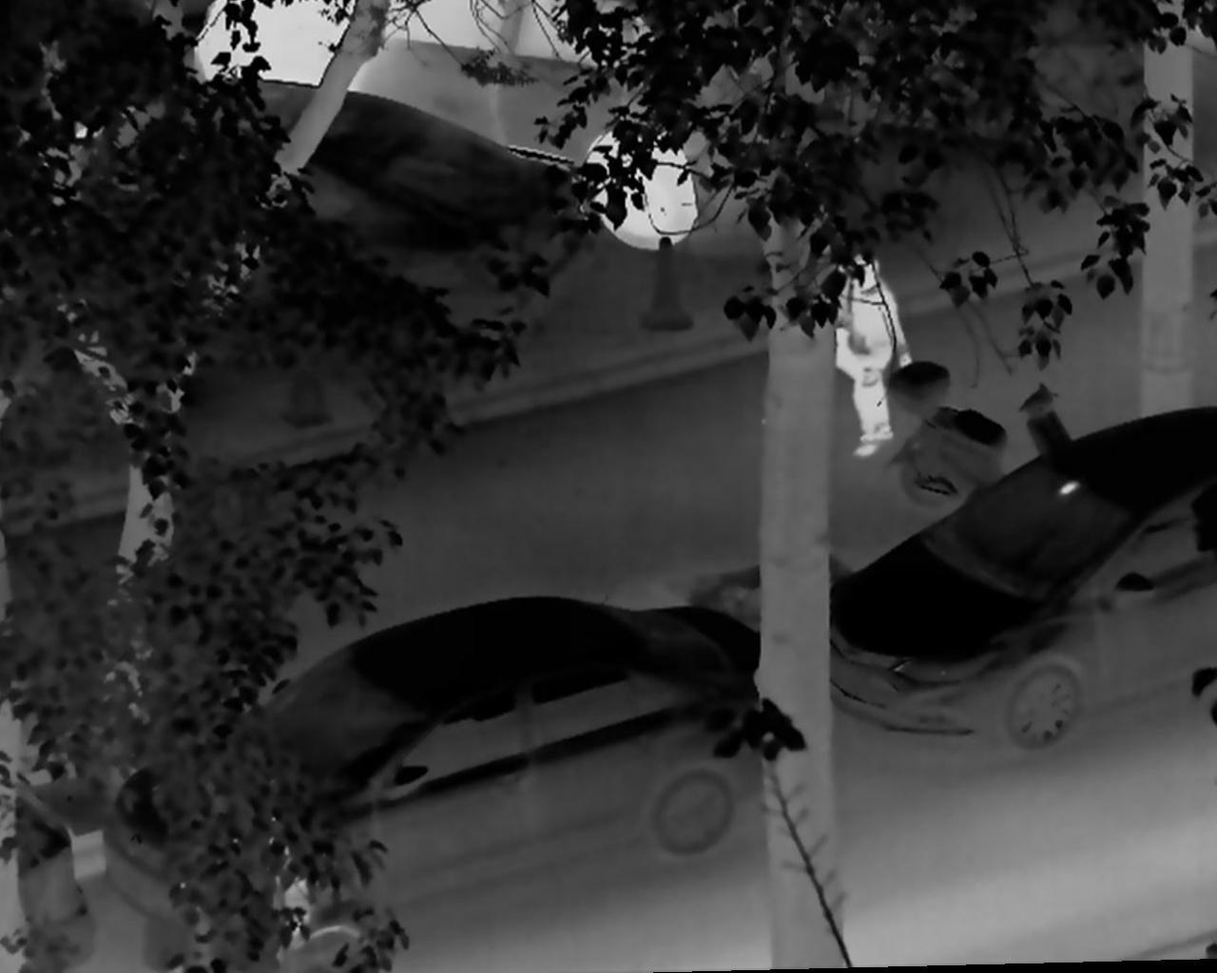person: (846, 243, 912, 462), (241, 811, 323, 973), (812, 223, 863, 390)
